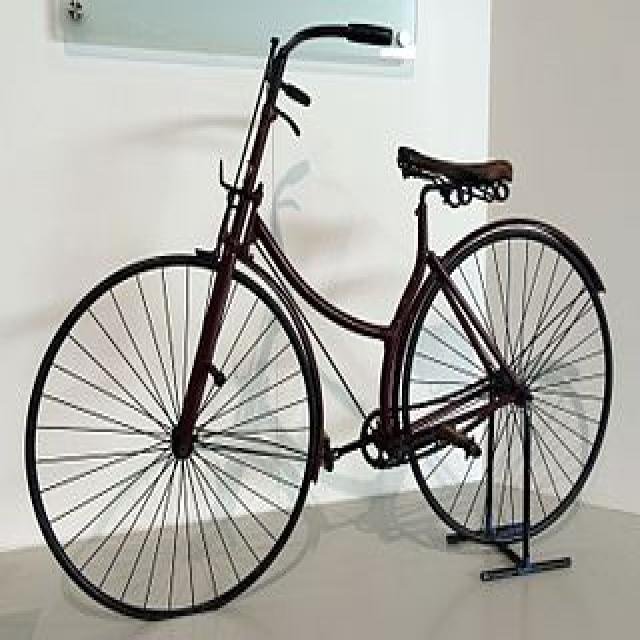bicycle: (33, 15, 613, 612)
